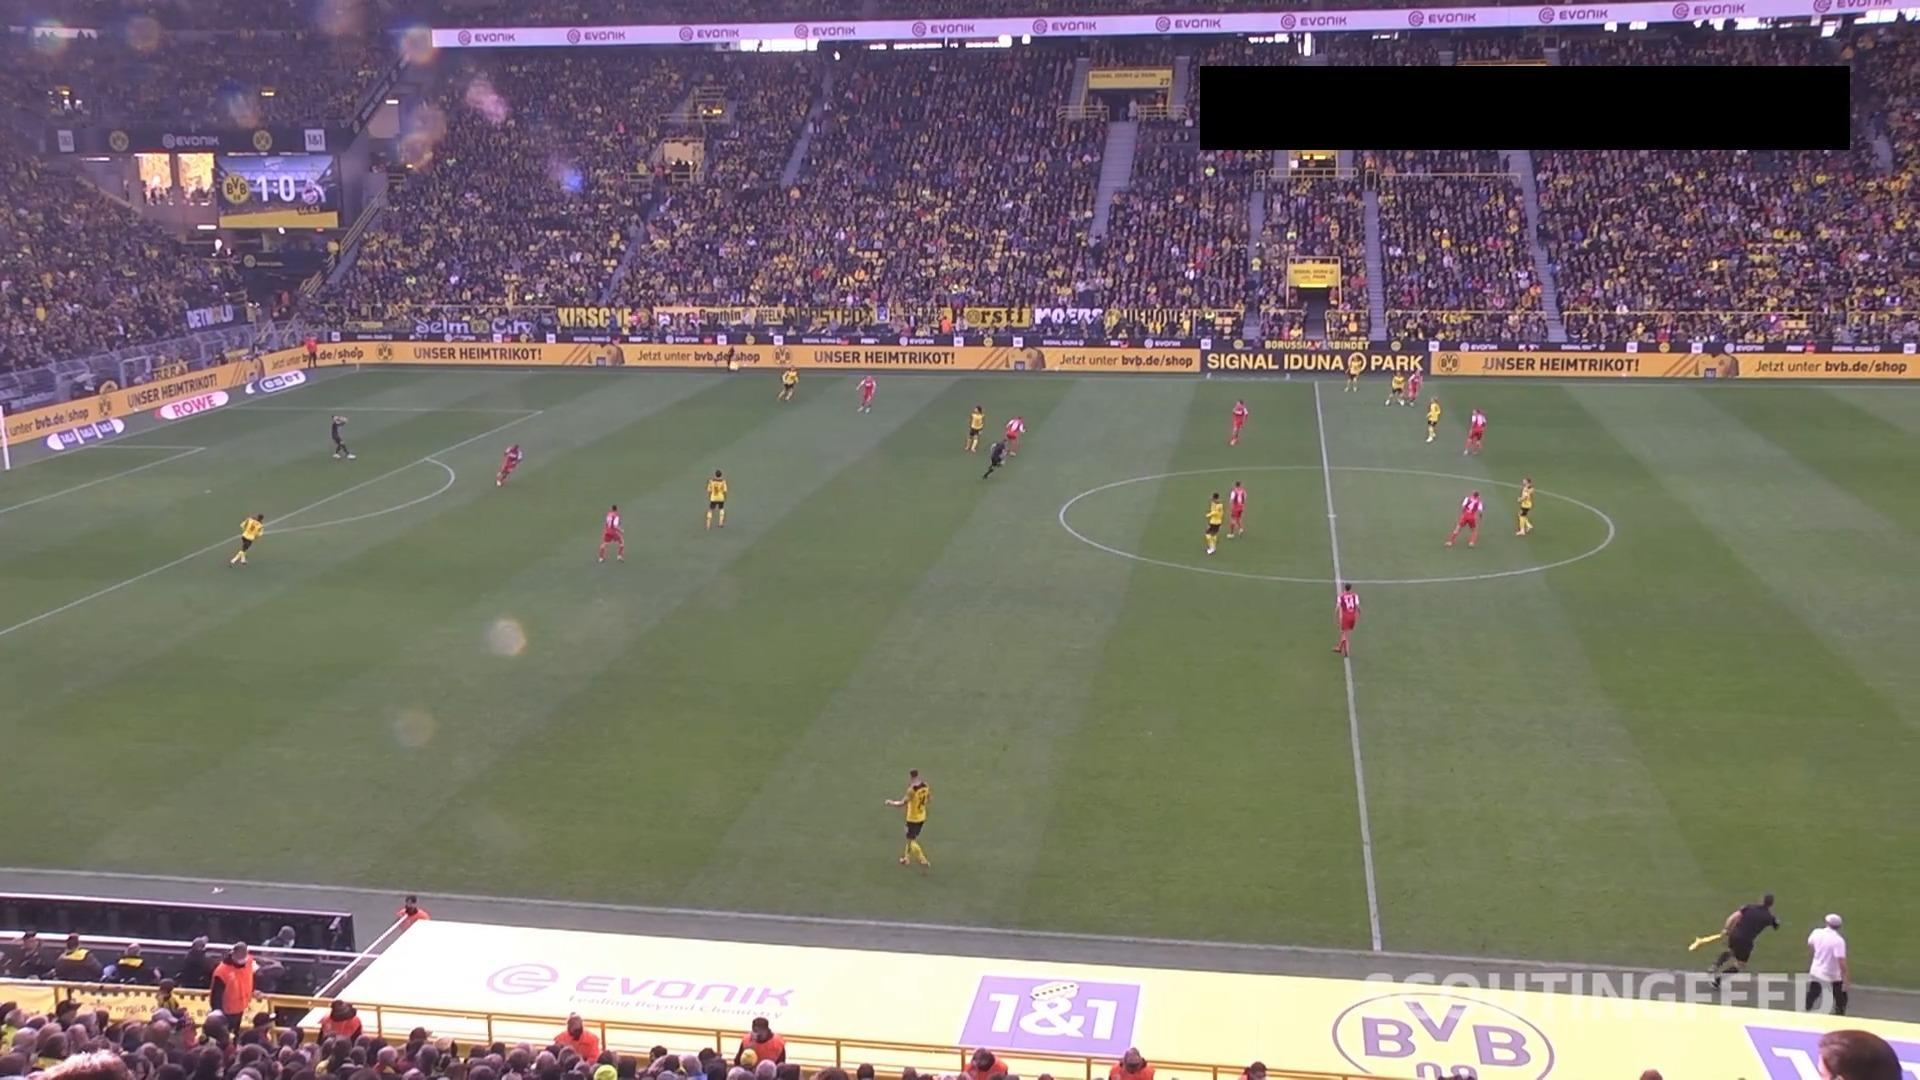coach: (1803, 912, 1850, 1014)
player: (883, 767, 932, 871), (1443, 490, 1483, 547), (1331, 581, 1360, 655), (228, 511, 264, 566), (596, 503, 625, 562), (703, 468, 728, 529), (494, 442, 522, 487), (1203, 491, 1223, 554), (1513, 476, 1534, 535), (1226, 479, 1247, 537), (1462, 406, 1486, 455), (330, 413, 355, 459), (1228, 397, 1248, 446), (964, 403, 984, 451), (1003, 414, 1025, 457), (1423, 395, 1441, 443), (1383, 369, 1406, 406), (1342, 352, 1363, 392), (776, 364, 798, 402), (855, 374, 876, 413), (1404, 366, 1422, 407)
referee: (1703, 891, 1779, 989), (982, 436, 1007, 479), (302, 333, 318, 367), (725, 345, 738, 371)
